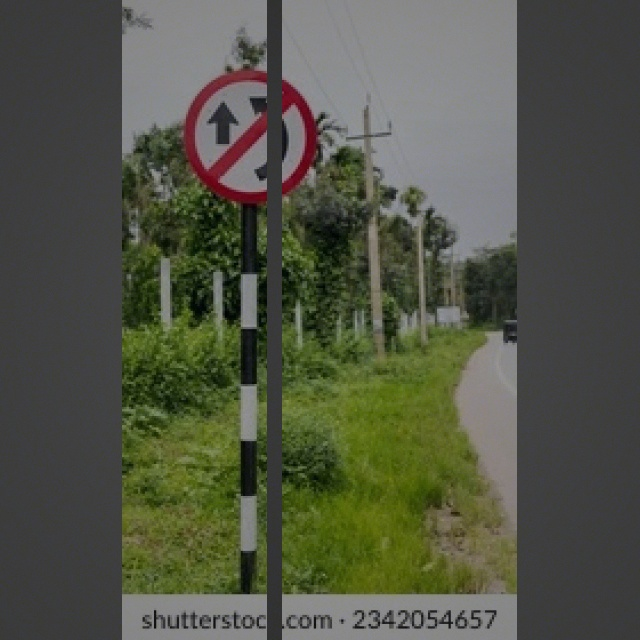Overtaking_Prohibited: (189, 69, 317, 203)
